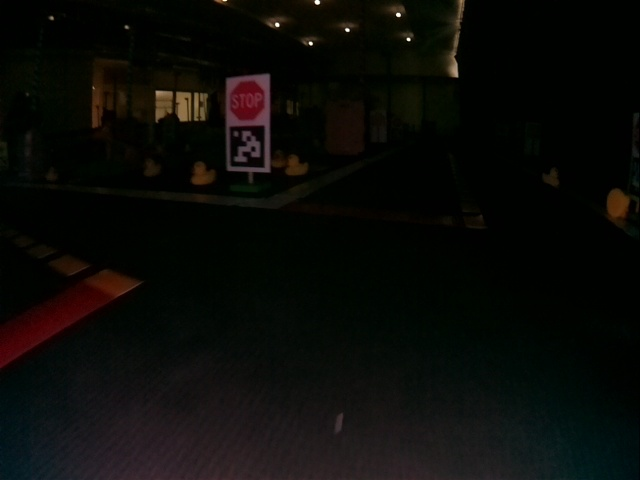Duckie: (607, 189, 630, 219), (191, 161, 214, 184), (285, 156, 307, 176), (542, 168, 560, 187), (272, 149, 286, 168), (146, 159, 160, 176), (47, 169, 58, 181)
QR code: (232, 125, 266, 169)
Stop sign: (229, 79, 267, 121)
